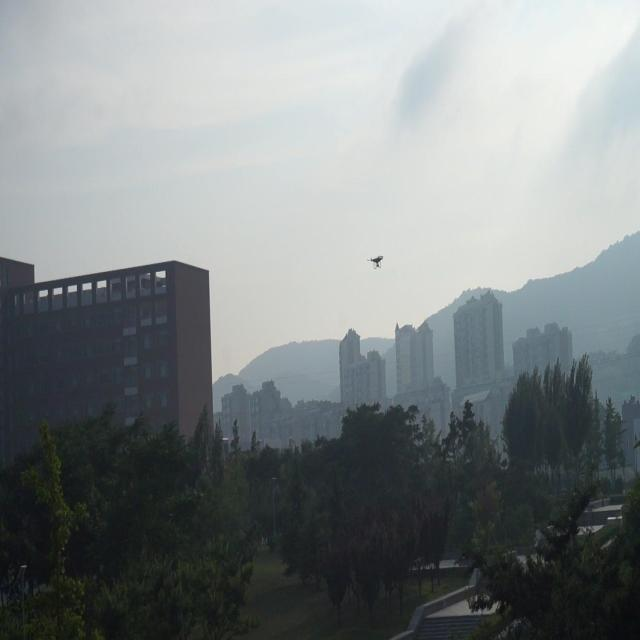drone: (366, 250, 386, 272)
